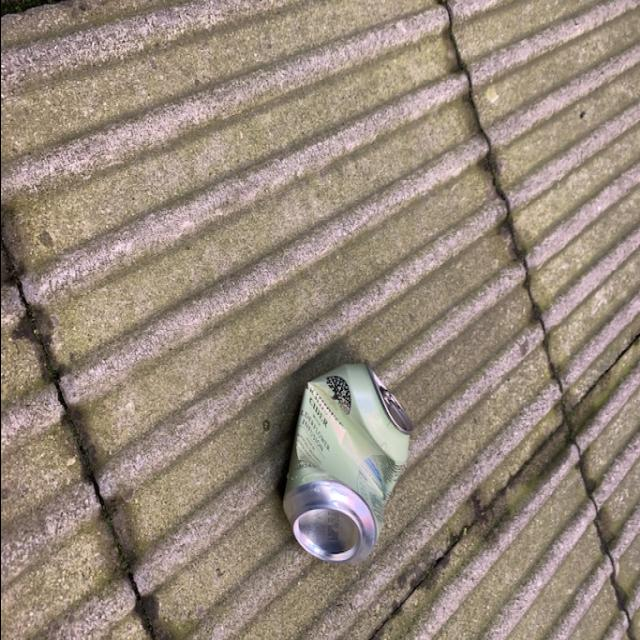litter: (276, 347, 412, 582)
